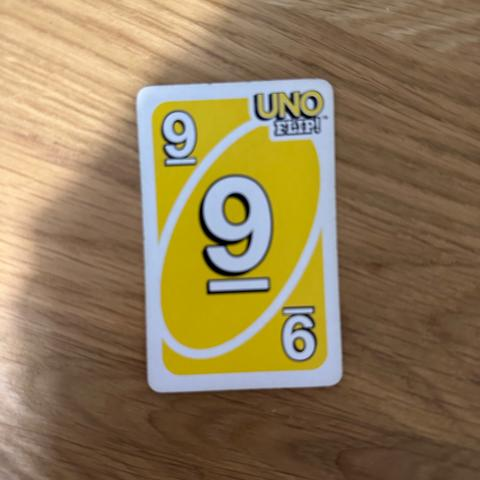lyellow-9: (147, 94, 208, 175)
